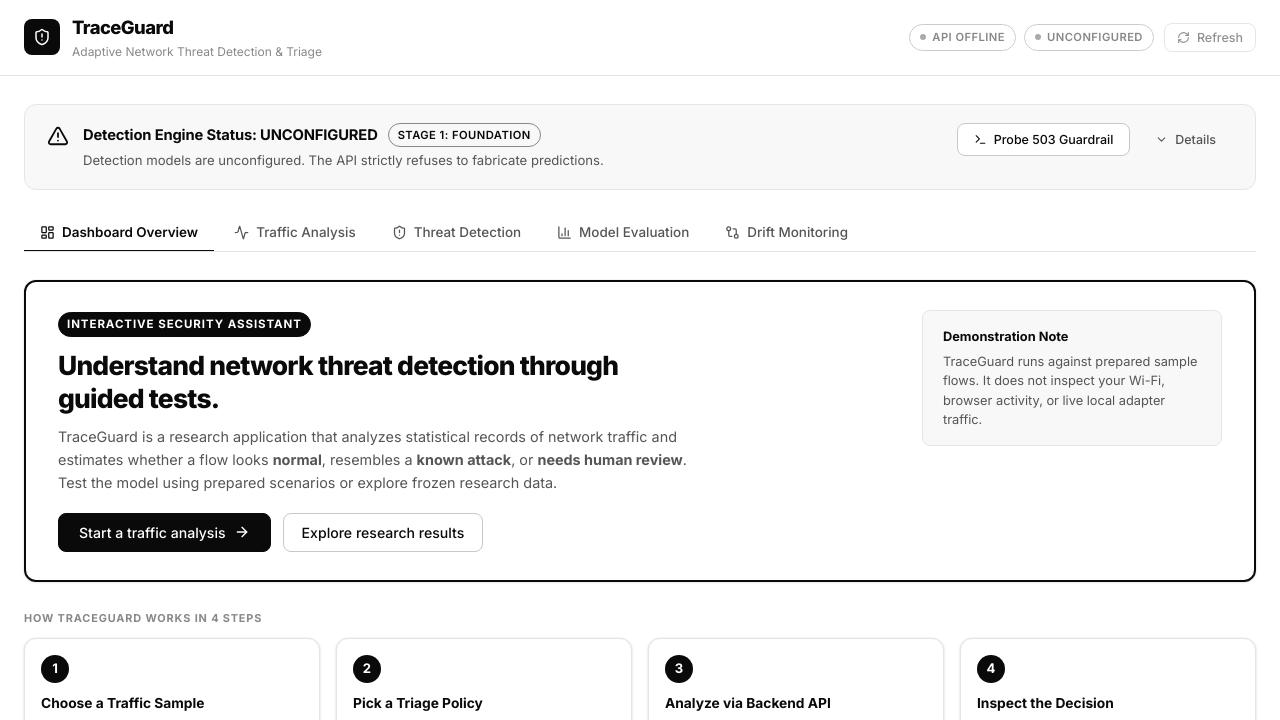
Test case: TraceGuard Stage 5 Complete Integration › allows switching to Model Evaluation tab and displays verified Stage 4.1 metrics
The width and height of the screenshot is (1280, 720).
Step 1. Click the tab "Model Evaluation" → {"x": 623, "y": 233}, box top-left (541, 214), bottom-right (705, 252)
(page scrolled)
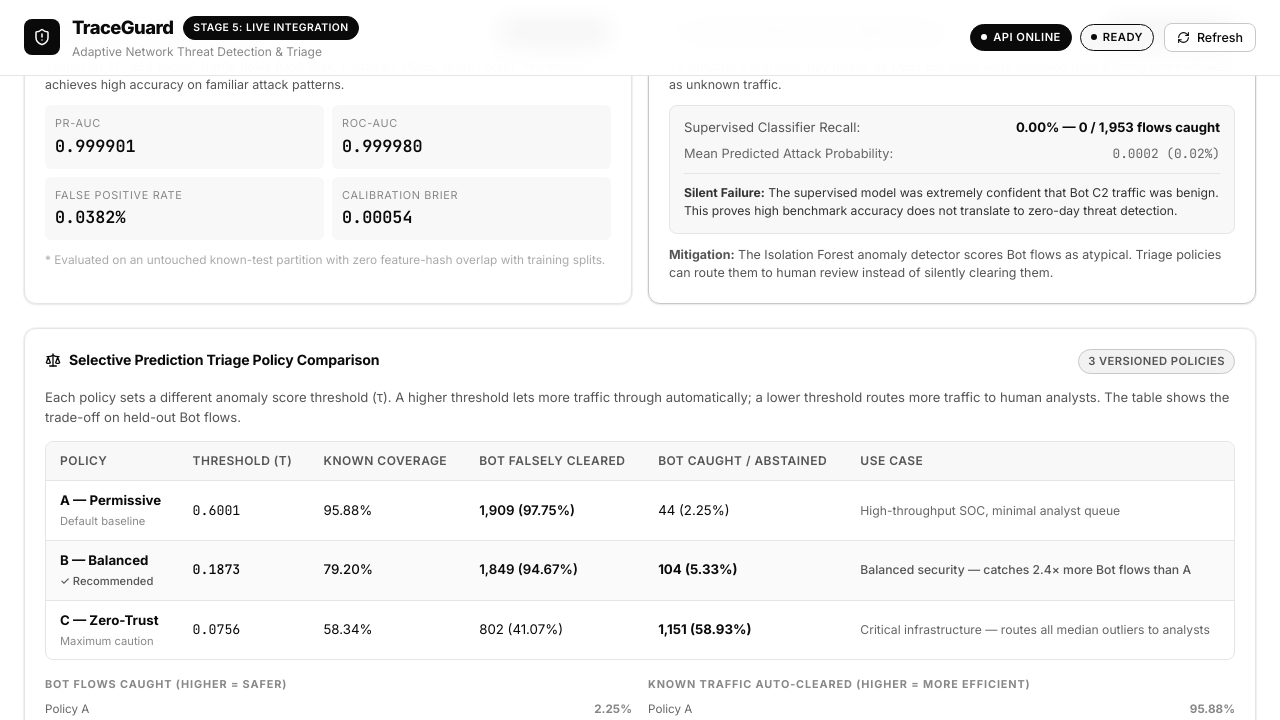
Expected: the text "Selective Prediction Triage Policy Comparison" is shown, top-left (45, 349), bottom-right (379, 370)
